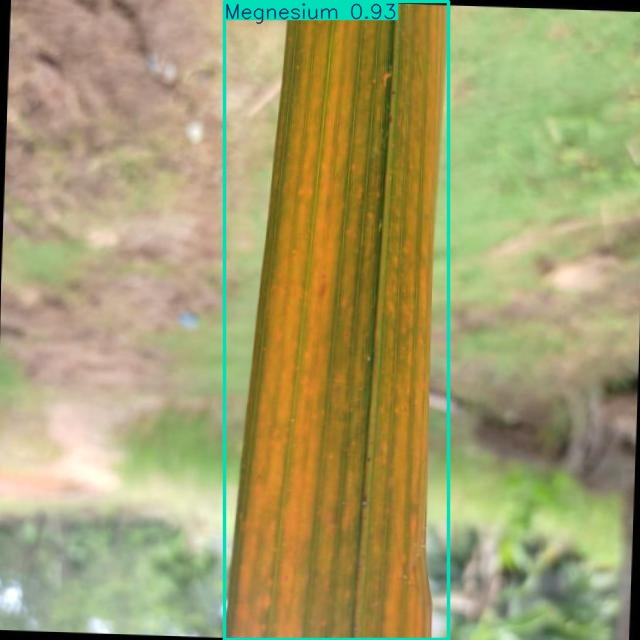Megnesium: (225, 1, 449, 640)
